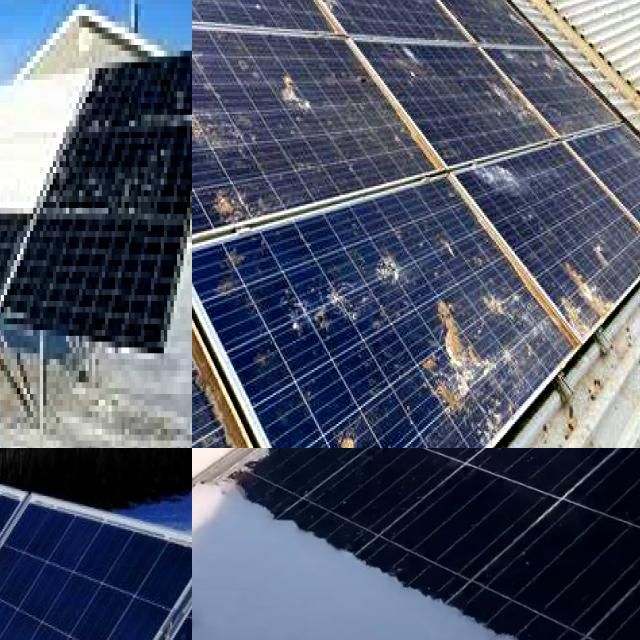bird: (274, 255, 354, 357), (470, 66, 551, 138), (427, 295, 470, 421), (461, 153, 541, 210), (560, 235, 604, 336), (271, 63, 336, 126), (480, 270, 550, 325), (202, 163, 262, 226), (192, 375, 230, 448), (192, 3, 223, 78), (192, 143, 218, 216), (390, 45, 434, 88), (377, 235, 408, 288), (334, 417, 375, 448), (192, 98, 222, 139), (258, 0, 298, 22), (316, 0, 350, 25)
panel: (214, 464, 623, 640), (246, 448, 444, 521), (0, 63, 91, 221), (291, 448, 552, 487), (0, 87, 62, 217), (128, 97, 184, 223), (431, 448, 640, 476), (0, 118, 56, 220), (0, 448, 34, 548), (0, 564, 37, 640), (295, 448, 444, 464)
